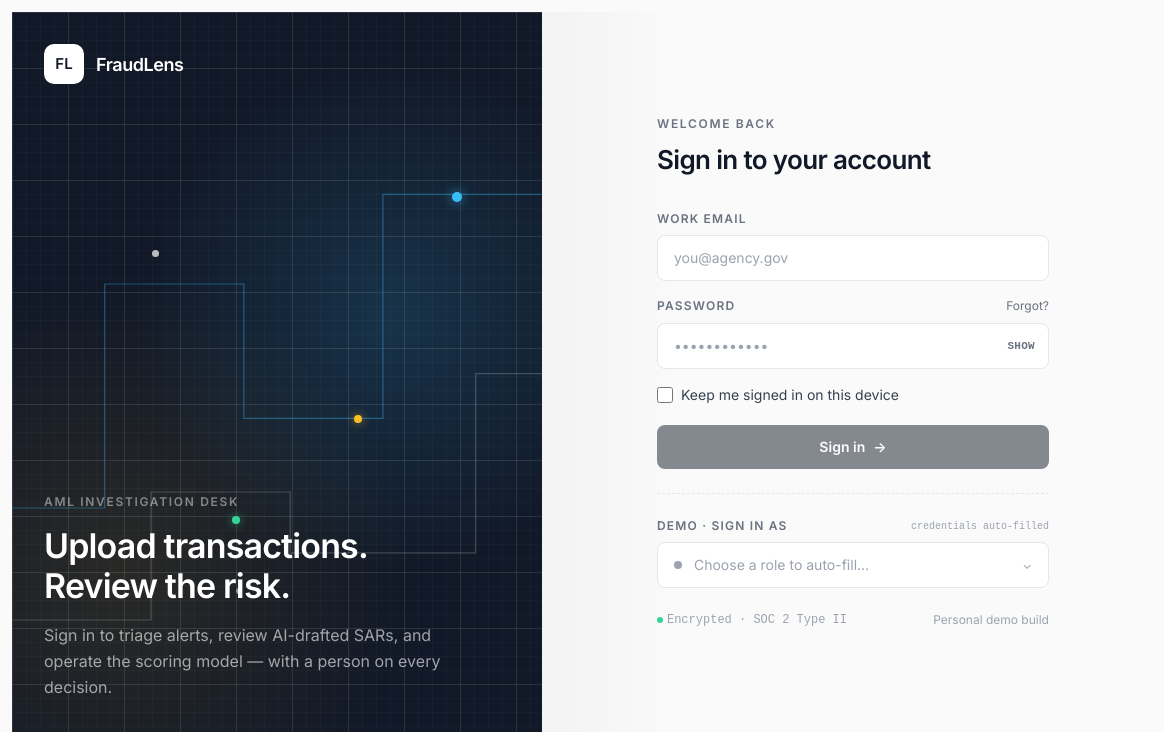
Scenario: Login › lists exactly the supplied personas once the picker is open, then closes on select
Click the button named "Demo · sign in as". click: (853, 565)
box: [657,542,1049,588]
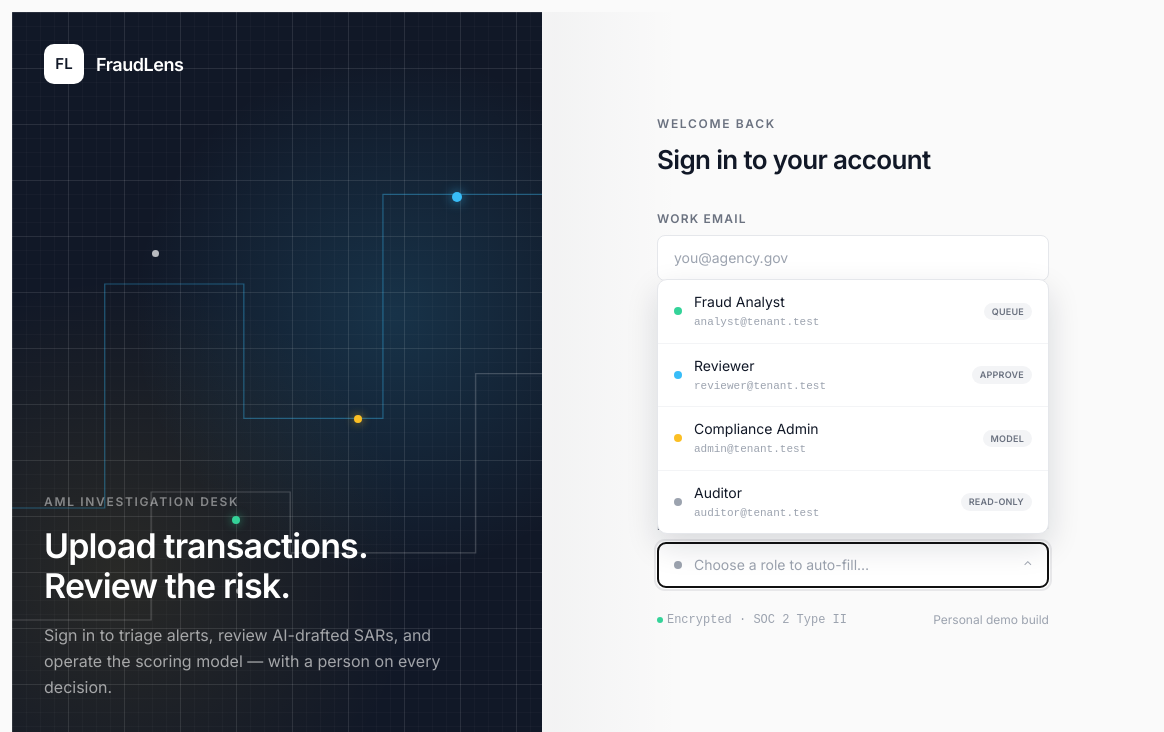
Result: the number of options is 4
Result: the option "Fraud Analyst analyst@tenant.test Queue" is shown
Result: the option "Reviewer reviewer@tenant.test Approve" is shown at [658,344,1048,407]
Click the option "Fraud Analyst analyst@tenant.test Queue". click: (739, 302)
box: [658,280,1048,344]
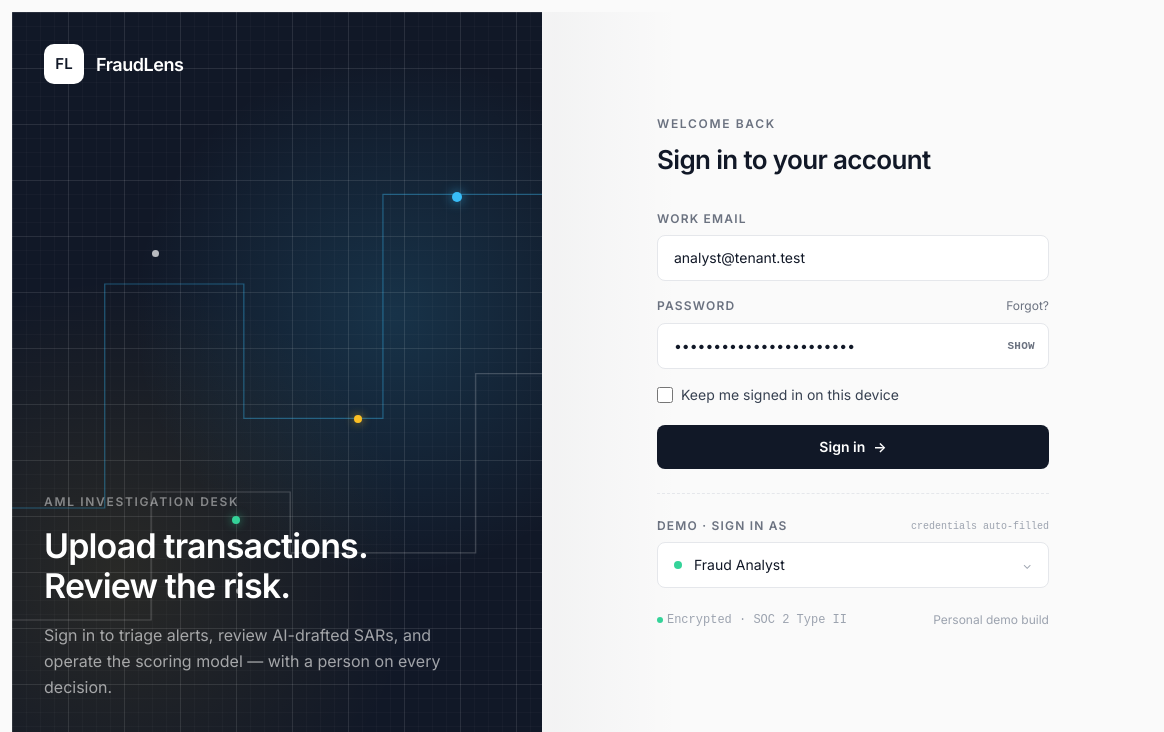
Result: the list is gone
